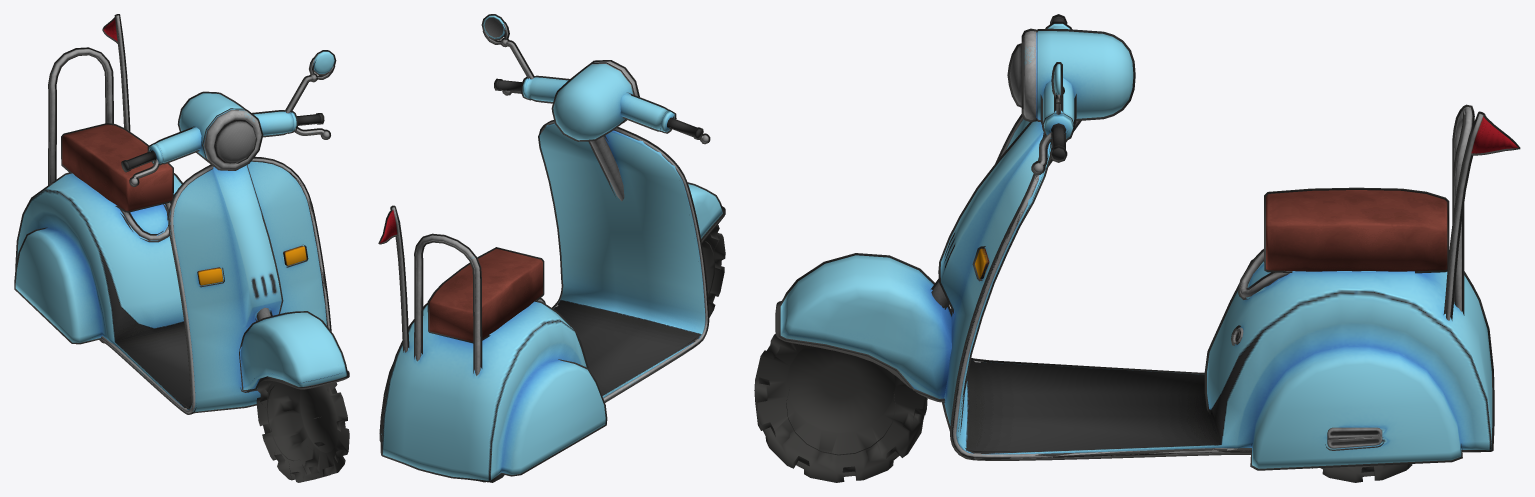
Rendered from body.glb.
3 views of the same model, side by side, from view 1: azimuth 30°, elevation 25°; view 2: azimuth 150°, elevation 25°; view 3: azimuth 270°, elevation 25° (orthographic). The views are drawn at different scales.
Parts seen in each view (by area): view 1: Cube.005_moto_0, Cube.009_Material.001_0; view 2: Cube.005_moto_0, Cube.009_Material.001_0; view 3: Cube.005_moto_0, Cube.009_Material.001_0.
Boxes of the visible parts, x1=… form: Cube.005_moto_0: x1=15, y1=15, x2=346, y2=413; Cube.009_Material.001_0: x1=14, y1=14, x2=349, y2=482; Cube.005_moto_0: x1=380, y1=15, x2=722, y2=480; Cube.009_Material.001_0: x1=378, y1=14, x2=725, y2=482; Cube.005_moto_0: x1=780, y1=16, x2=1518, y2=468; Cube.009_Material.001_0: x1=754, y1=14, x2=1520, y2=482.
Bounding box in the file's own units: 300 × 462 × 673.
Materials: 2 (1 with a texture image).
